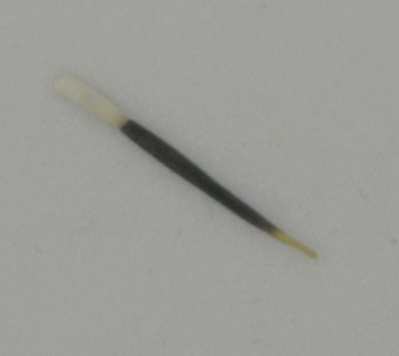เมล็ดดีเรียวยาว: (55, 71, 323, 261)
